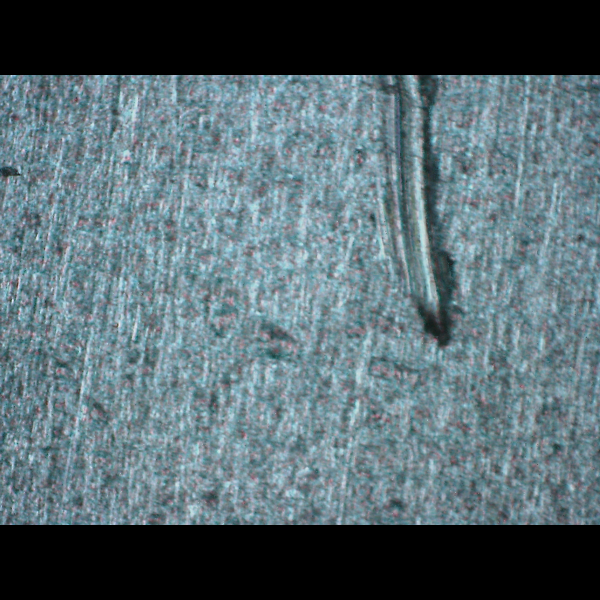d: (364, 75, 459, 349)
